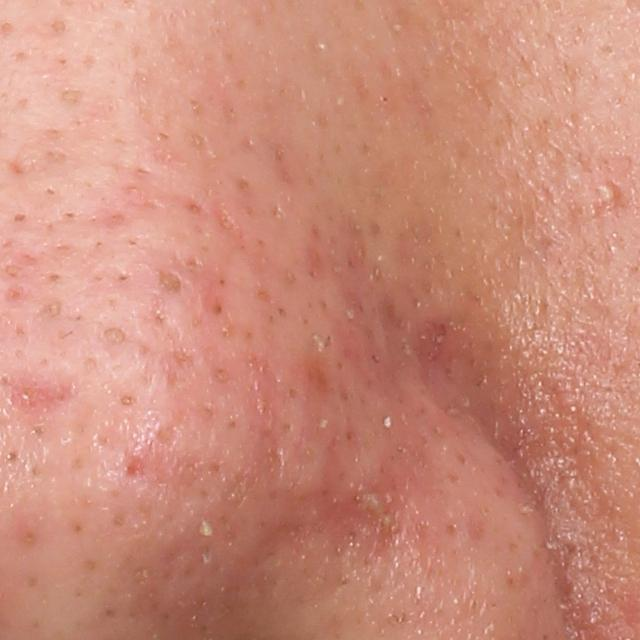comedo: (100, 321, 128, 349), (117, 388, 136, 408)
